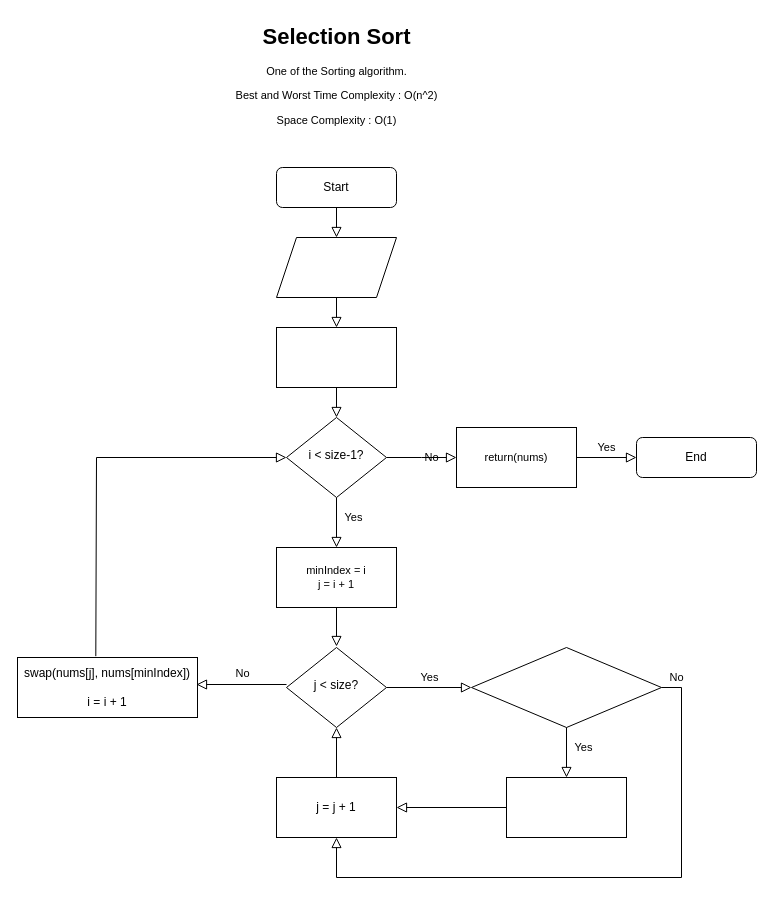
The diagram is 774 pixels wide and 905 high, and some of its shapes have lost their labels. The box of each missing label's shape, as (x1, y1, x2, y2) in pixels:
minIndex = j: (506, 776, 626, 838)
nums(array): (276, 236, 396, 298)
nums[minIndex] >nums[j]?: (470, 646, 662, 728)
size = nums.size() i = 0: (276, 326, 396, 388)
